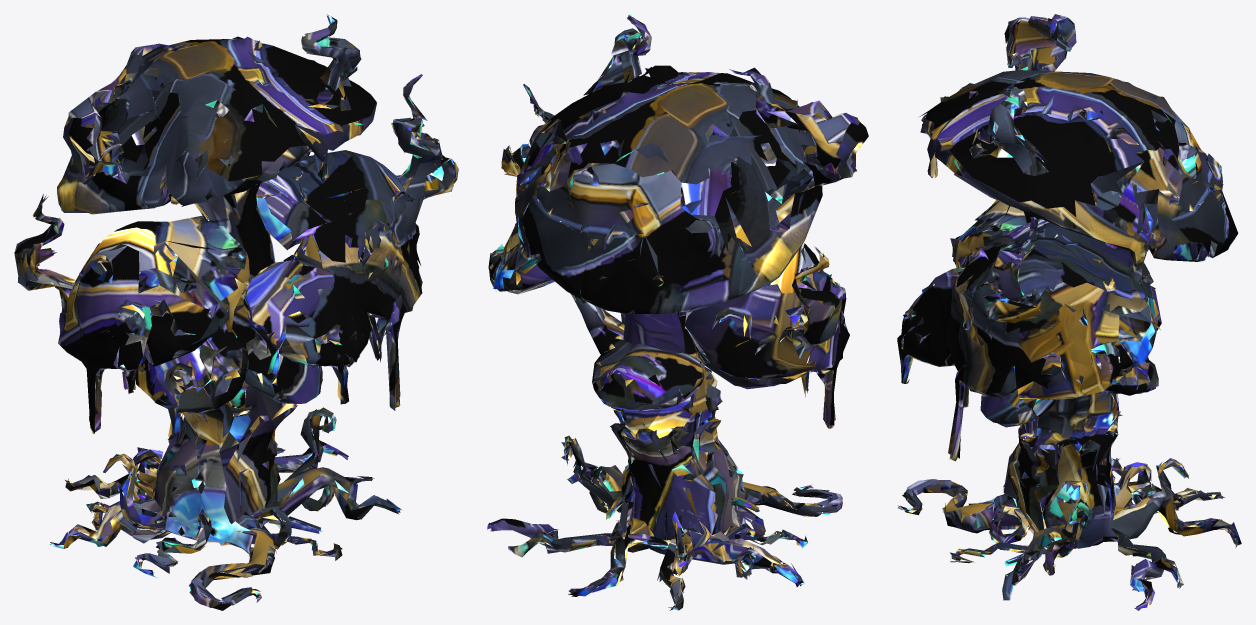
The model's file is tower_sporecloud_3d_LOD1.fbx.
3 renders of one model, left to right at view 1: azimuth 30°, elevation 25°; view 2: azimuth 150°, elevation 25°; view 3: azimuth 270°, elevation 25°, orthographic. The views are drawn at different scales.
Parts seen in each view (by area): view 1: Mesh1.0; view 2: Mesh1.0; view 3: Mesh1.0.
Boxes of the visible parts, x1,y1,x2,y2 form: Mesh1.0: (14, 14, 458, 610); Mesh1.0: (487, 14, 868, 610); Mesh1.0: (897, 14, 1241, 610).
Bounding box in the file's own units: 99.45 × 126 × 79.78.
